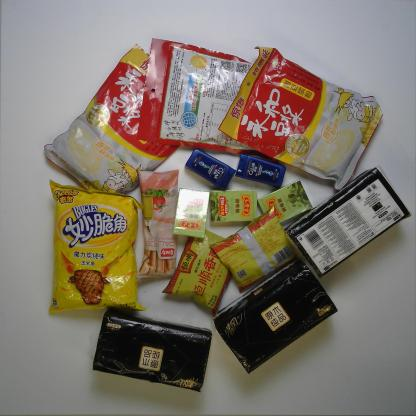Candy: (255, 178, 314, 224), (172, 186, 212, 240), (207, 187, 259, 224)
Dessert: (131, 164, 182, 283)
Instant Drink: (214, 43, 385, 192), (41, 38, 182, 197), (135, 33, 268, 159)
Personal Hygiene: (181, 145, 239, 193), (231, 150, 288, 190)
Puffed Food: (43, 175, 149, 317)
Seasoner: (208, 203, 299, 294), (160, 227, 232, 320)
Tissue: (209, 253, 340, 376), (282, 163, 413, 280), (88, 304, 214, 395)
